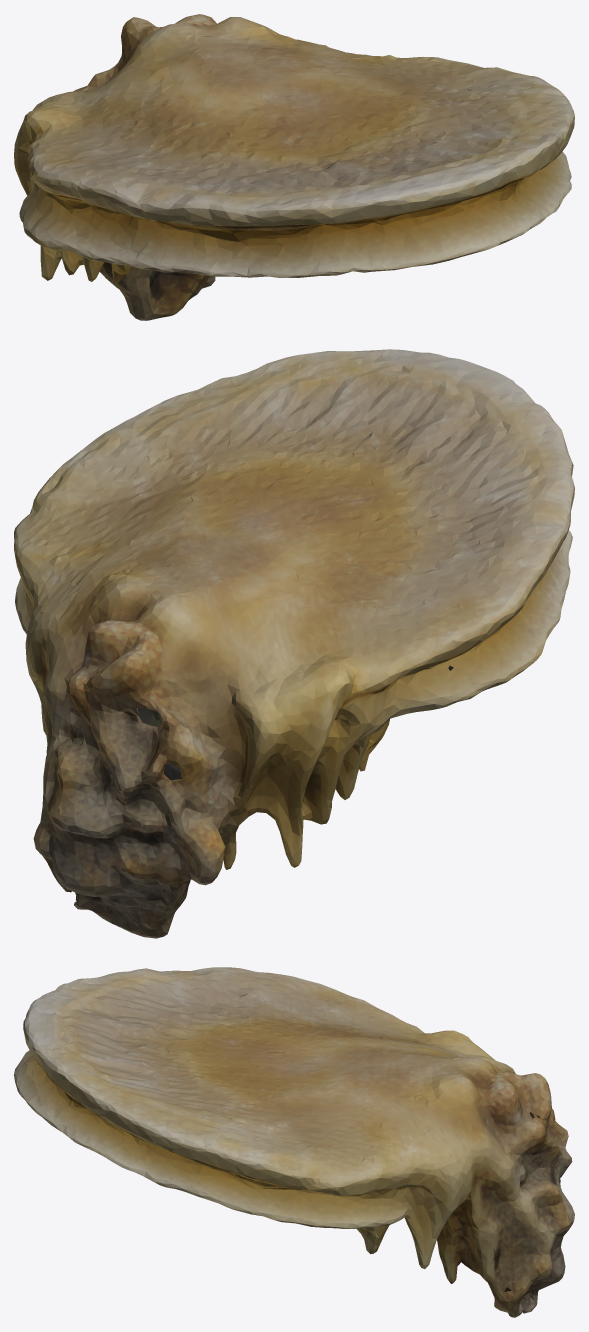
3 views of the same model, one above another, from view 1: azimuth 30°, elevation 25°; view 2: azimuth 150°, elevation 25°; view 3: azimuth 270°, elevation 25° (orthographic). The views are drawn at different scales.
Visible parts, largest first — view 1: world; view 2: world; view 3: world.
Boxes of the visible parts, x1=… form: world: x1=14, y1=14, x2=574, y2=320; world: x1=14, y1=349, x2=574, y2=938; world: x1=14, y1=967, x2=574, y2=1317.
Size of the model in its own units: 0.8113 by 0.5558 by 0.9918.
Materials: 1 (1 with a texture image).
